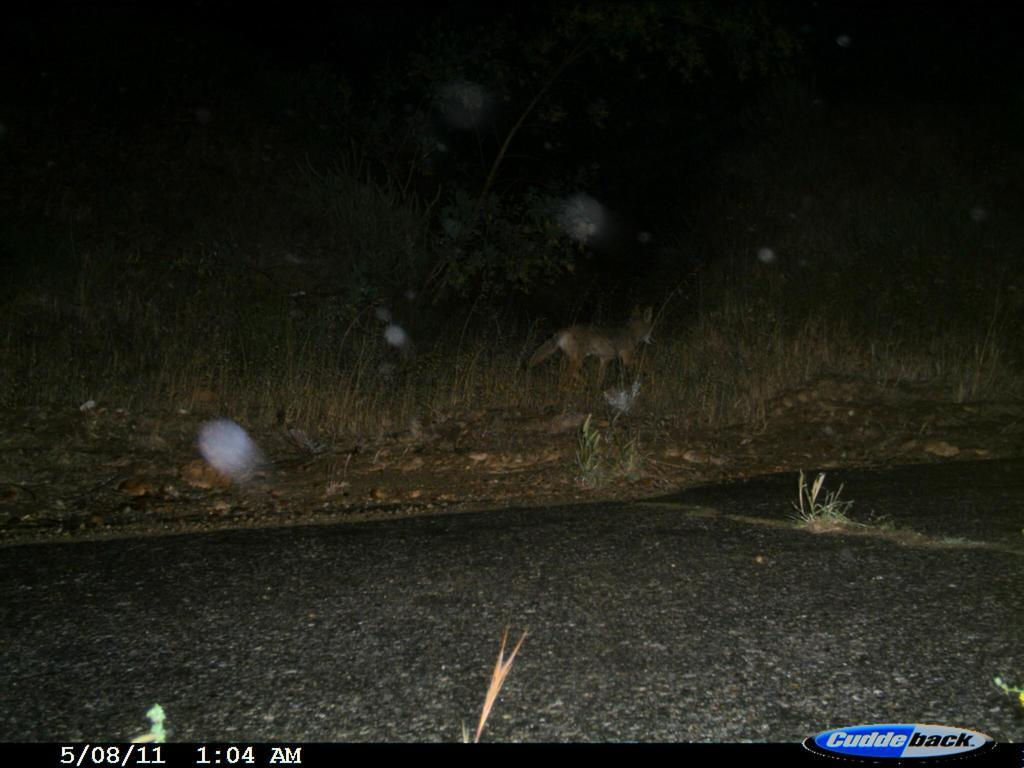coyote: (523, 289, 680, 406)
